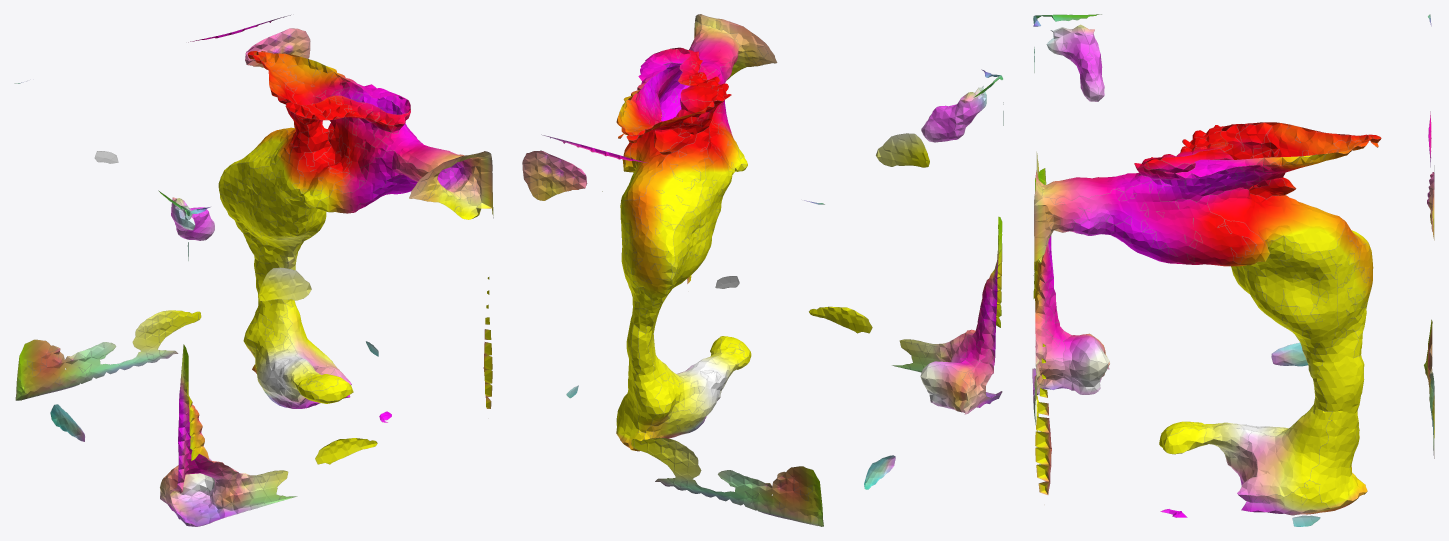
3 renders of one model, left to right at view 1: azimuth 30°, elevation 25°; view 2: azimuth 150°, elevation 25°; view 3: azimuth 270°, elevation 25°, orthographic. The views are drawn at different scales.
Bounding box in the file's own units: 1.01 × 1.01 × 1.01.
Materials: 1 (1 with a texture image).
